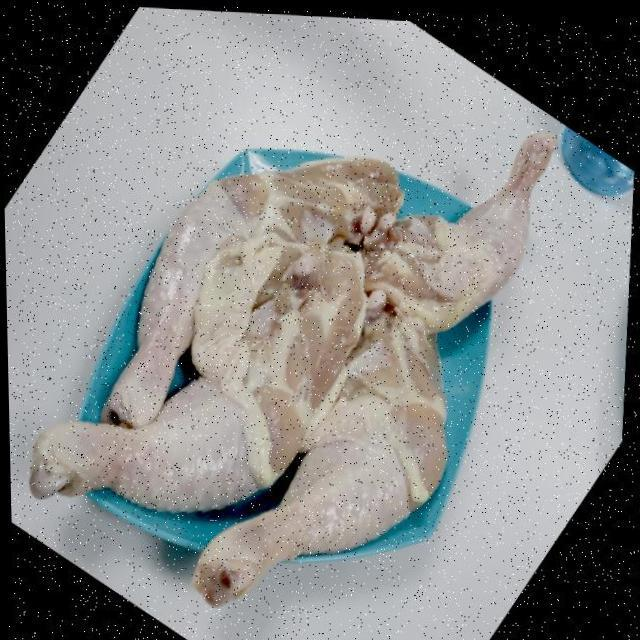quater: (14, 245, 360, 524), (109, 123, 400, 432), (181, 308, 451, 590), (360, 110, 564, 322)
